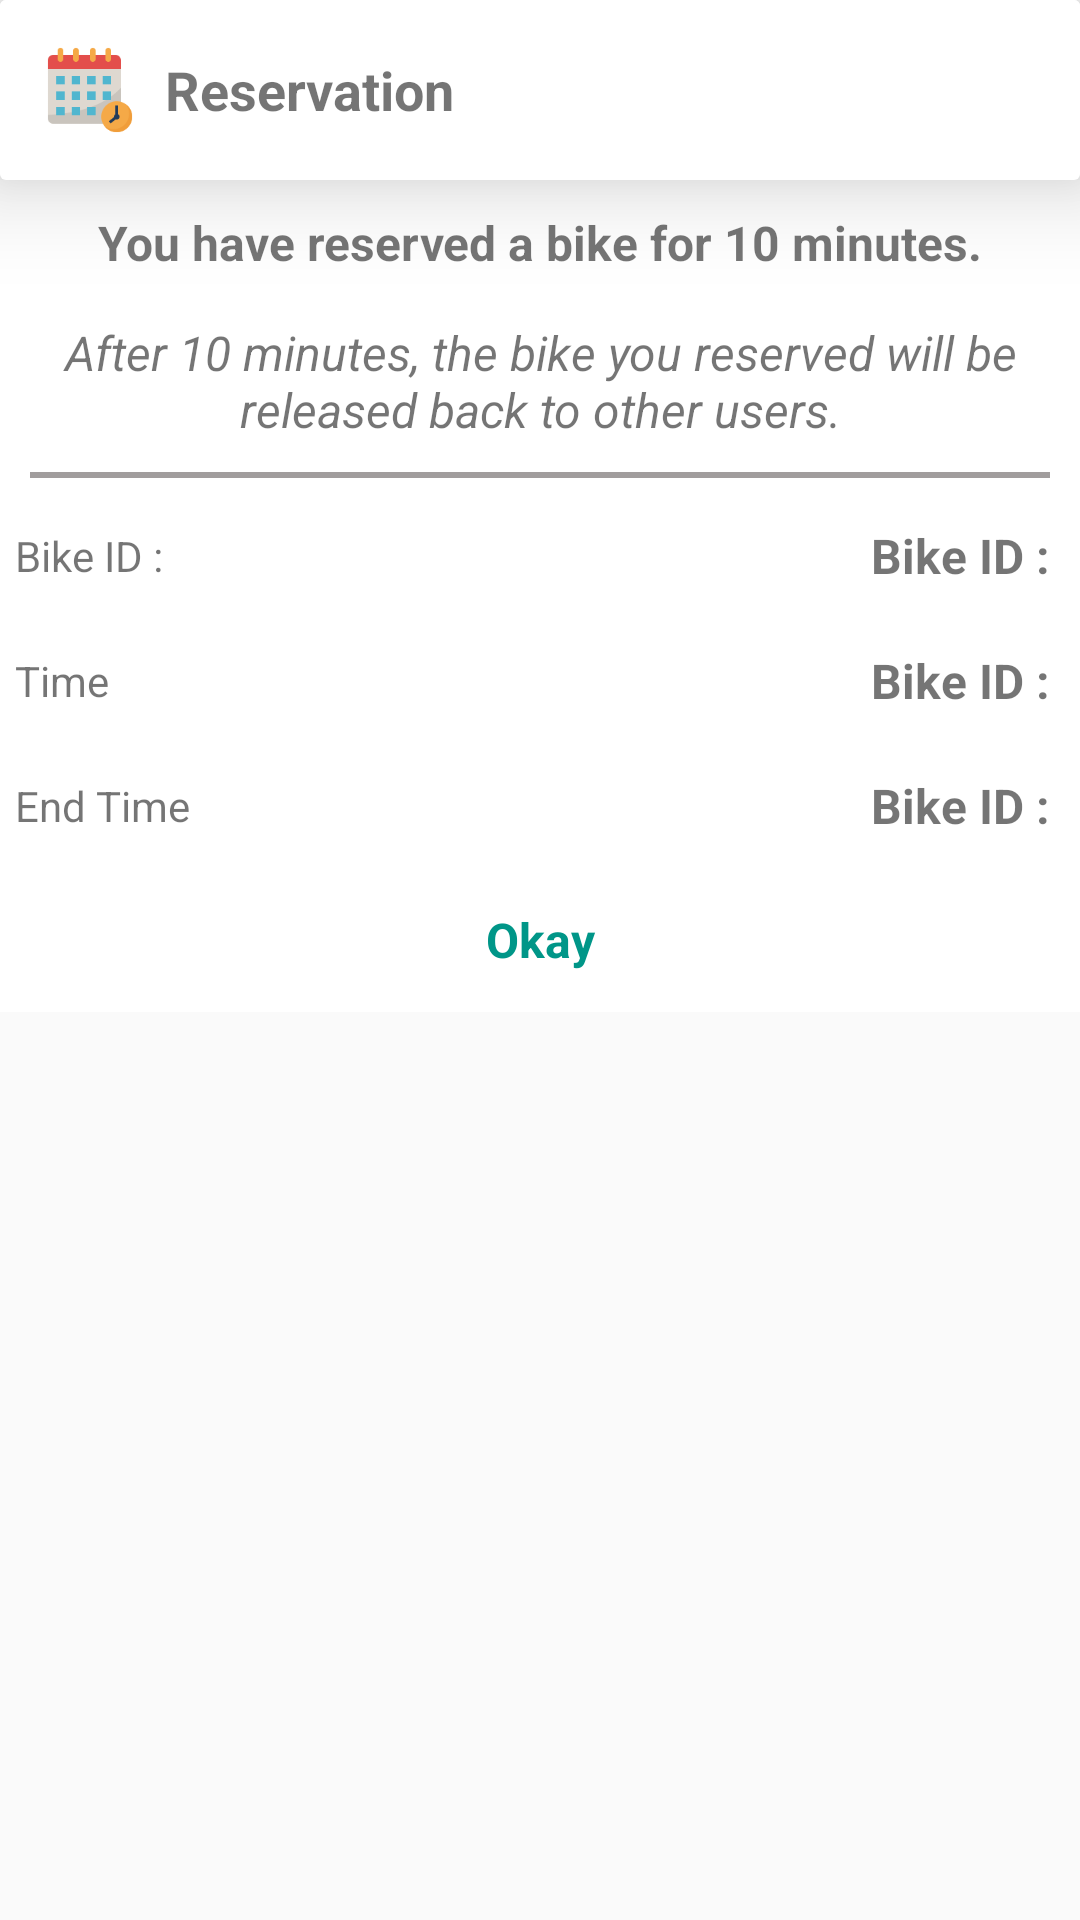

Where icons sit on this 1080×1920 app screen, as (x1, y1, x2, y2):
calendar: (48, 48, 132, 132)
